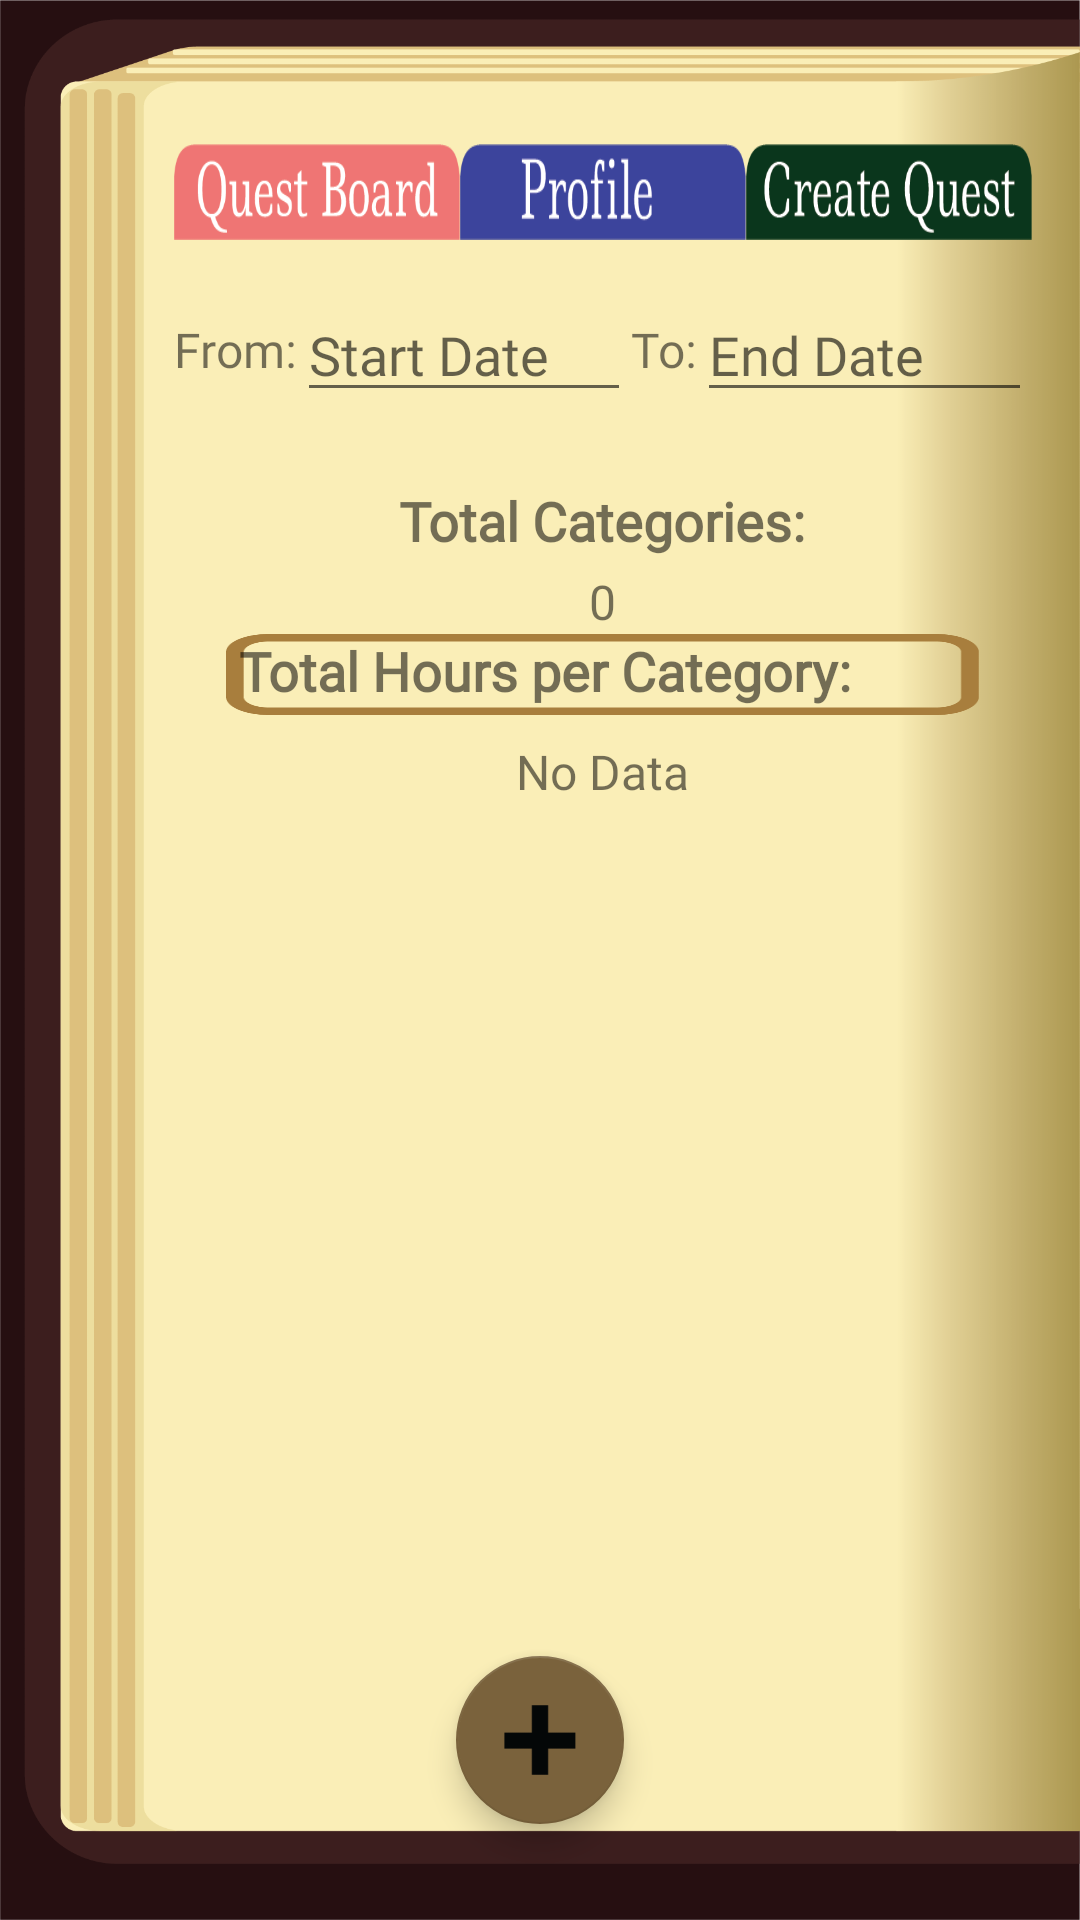

Named icons in this screenshot (1080×1920) and their centers, point (x, y):
Add Timesheet Entry: point (540, 1740)
